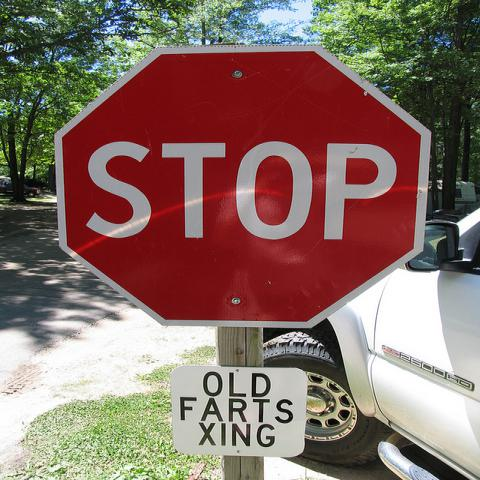car: (255, 207, 477, 479), (3, 182, 39, 198)
truck: (253, 202, 479, 473)
